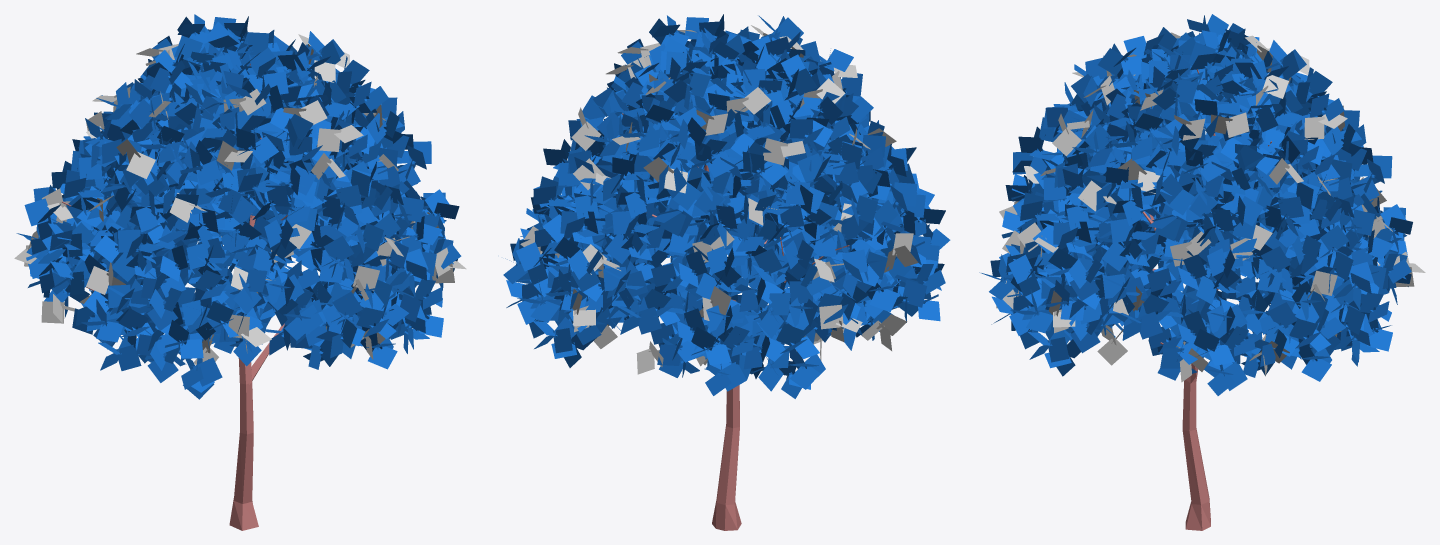
File: SM_cherry_tree.fbx
3 renders of one model, left to right at view 1: azimuth 30°, elevation 25°; view 2: azimuth 150°, elevation 25°; view 3: azimuth 270°, elevation 25°, orthographic.
Parts seen in each view (by area): view 1: cherry; view 2: cherry; view 3: cherry.
Boxes of the visible parts, x1,y1,x2,y2 form: cherry: (14, 14, 466, 530); cherry: (503, 14, 950, 530); cherry: (979, 14, 1425, 530).
Size of the model in its own units: 419 by 512 by 422.
